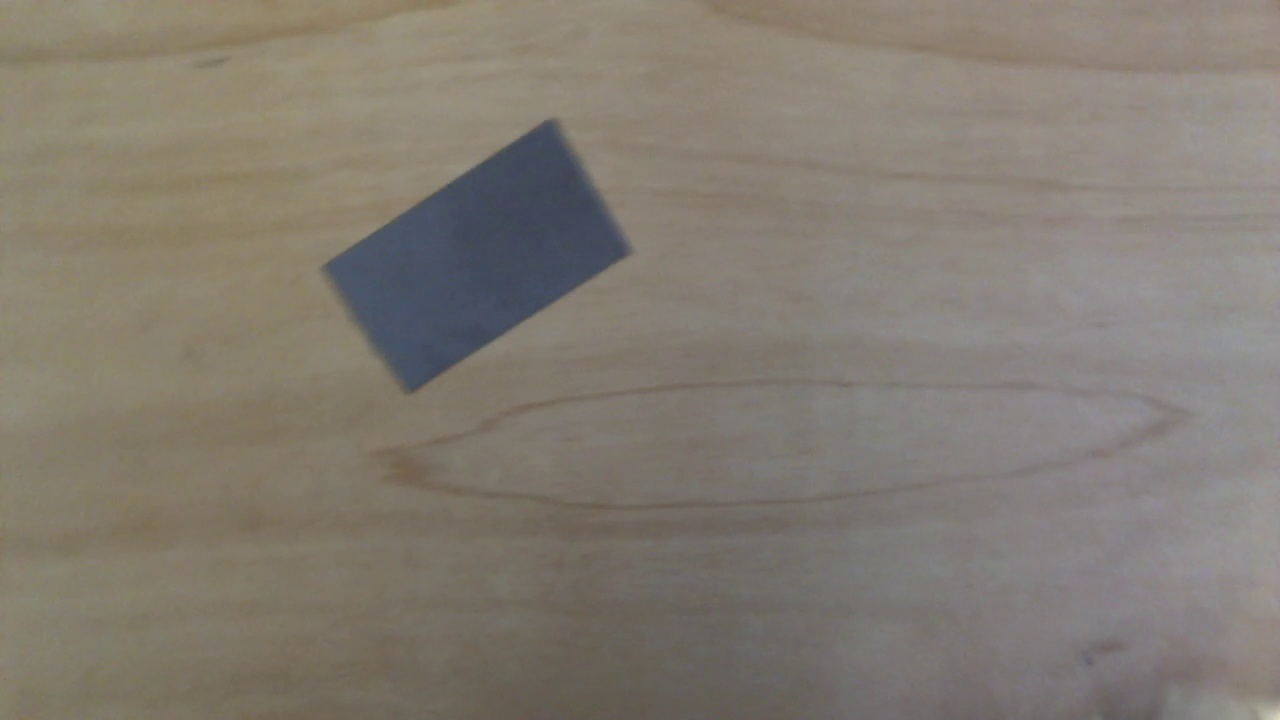Tape: (318, 118, 633, 391)
